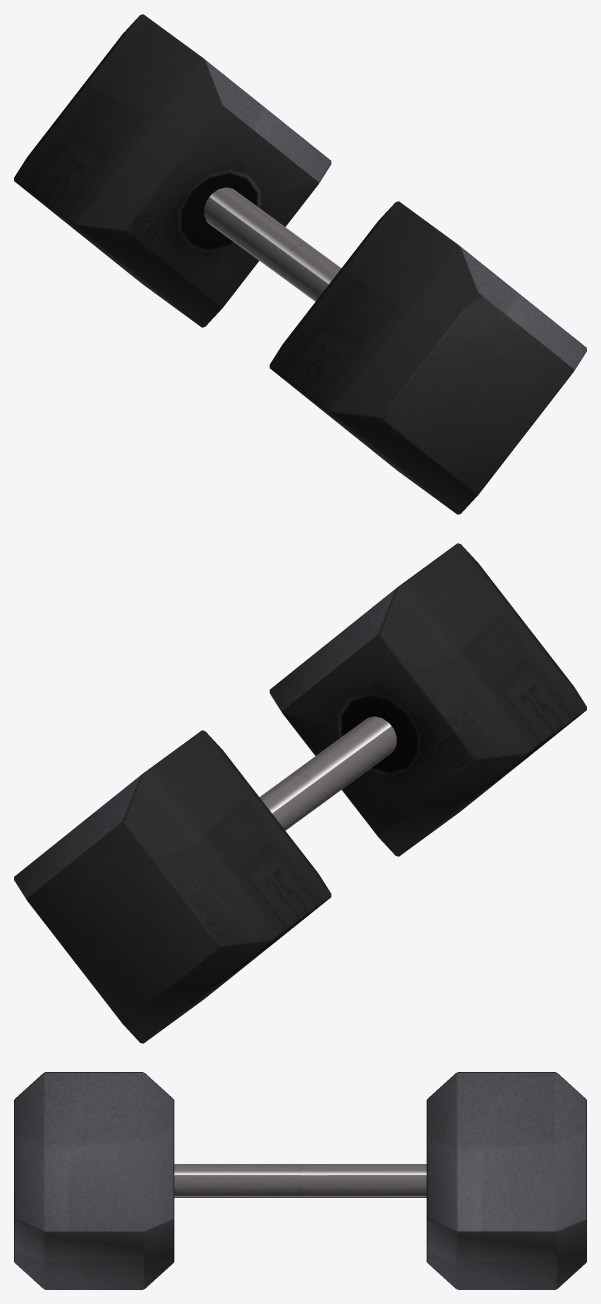
Rendered from mancuerna.obj.
The picture shows the model from 3 angles, top to bottom: view 1: azimuth 30°, elevation 25°; view 2: azimuth 150°, elevation 25°; view 3: azimuth 270°, elevation 25°; orthographic projection. The views are drawn at different scales.
Visible parts, largest first — view 1: mancuerna:Cylinder001polySurface2, mancuerna:Cylinder001; view 2: mancuerna:Cylinder001polySurface2, mancuerna:Cylinder001; view 3: mancuerna:Cylinder001polySurface2, mancuerna:Cylinder001.
Boxes of the visible parts, left/top/right/bottom form: mancuerna:Cylinder001polySurface2: left=14, top=14, right=586, bottom=514; mancuerna:Cylinder001: left=204, top=187, right=341, bottom=301; mancuerna:Cylinder001polySurface2: left=14, top=543, right=586, bottom=1043; mancuerna:Cylinder001: left=259, top=716, right=396, bottom=830; mancuerna:Cylinder001polySurface2: left=14, top=1072, right=586, bottom=1289; mancuerna:Cylinder001: left=174, top=1164, right=426, bottom=1197.
Bounding box in the file's own units: 1.22 × 1.22 × 2.91.
Materials: 2 (2 with a texture image).
